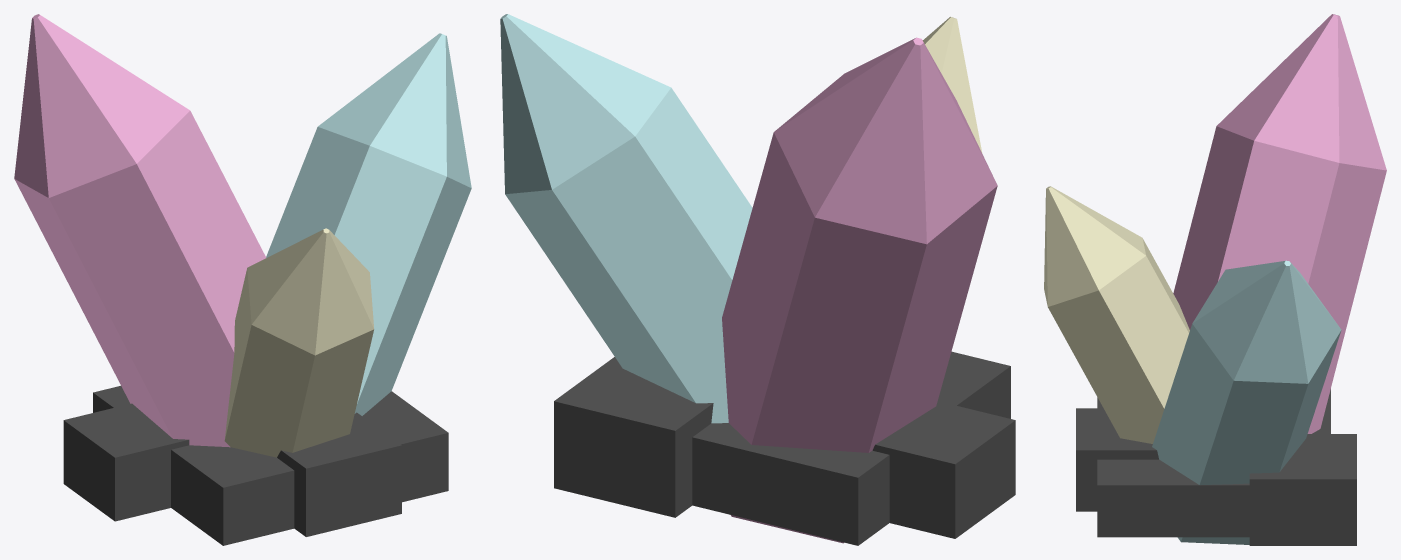
File: Crystal.fbx
3 renders of one model, left to right at view 1: azimuth 30°, elevation 25°; view 2: azimuth 150°, elevation 25°; view 3: azimuth 270°, elevation 25°, orthographic. The views are drawn at different scales.
Parts seen in each view (by area): view 1: Cube.008; view 2: Cube.008; view 3: Cube.008.
Part boxes in pixels (bbox=[...]): Cube.008: bbox=[14, 14, 471, 545]; Cube.008: bbox=[500, 14, 1015, 545]; Cube.008: bbox=[1044, 14, 1386, 545].
Bounding box in the file's own units: 100 × 114 × 80.81.
